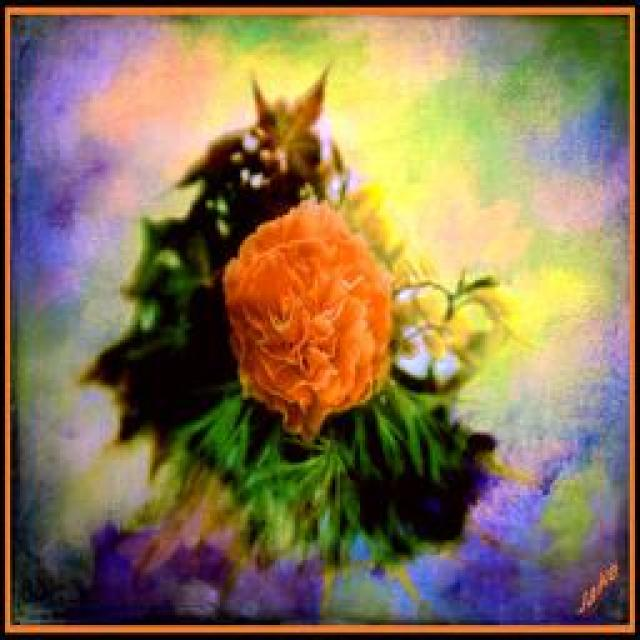carnation: (216, 175, 396, 440)
